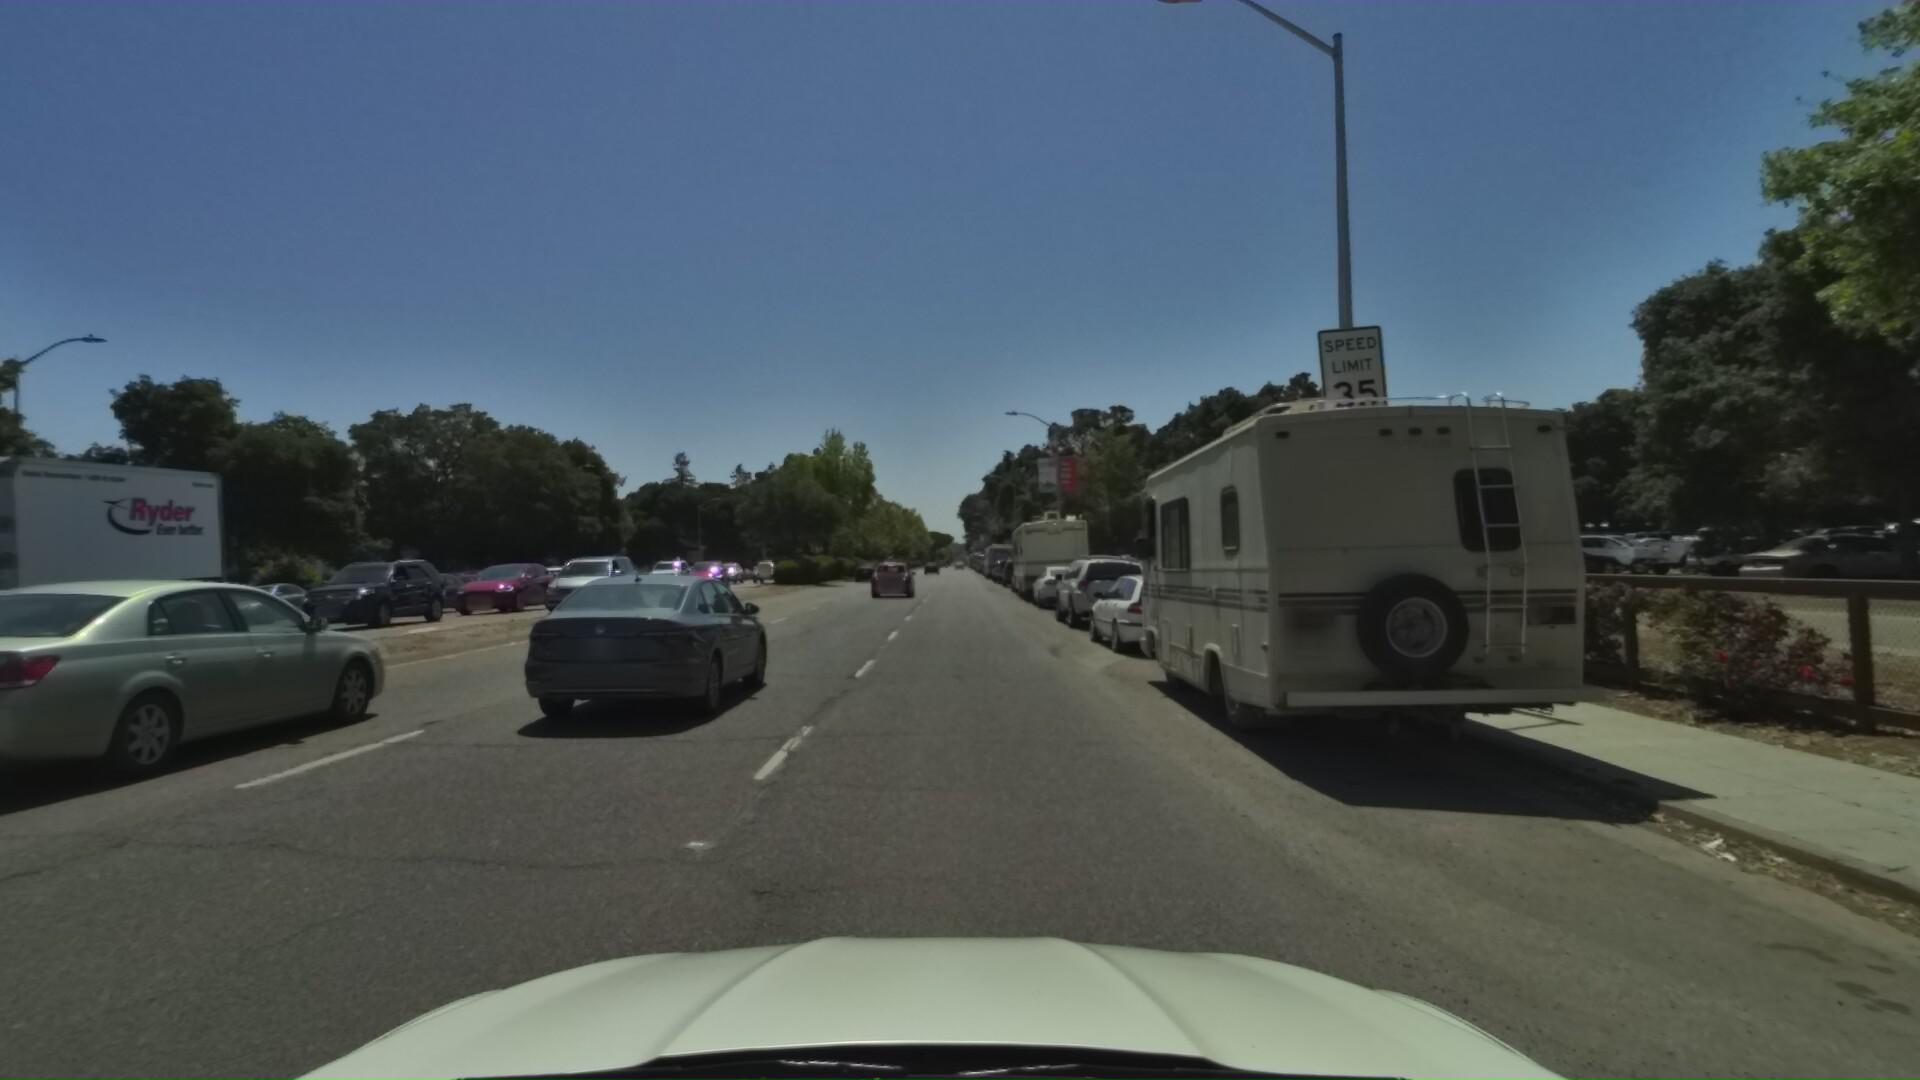car: (498, 560, 777, 746), (1085, 556, 1233, 661), (264, 550, 454, 630), (1050, 539, 1164, 624), (526, 543, 644, 608), (436, 556, 563, 611), (194, 574, 322, 622), (382, 564, 491, 611), (1027, 554, 1098, 607), (510, 555, 580, 592), (866, 554, 914, 597), (638, 551, 698, 584), (680, 553, 733, 588), (1000, 545, 1033, 578), (992, 546, 1026, 575), (746, 551, 782, 578), (711, 553, 748, 578), (851, 558, 880, 580)
other_vehicle: (1133, 342, 1691, 794), (1007, 491, 1097, 597)
